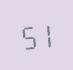five: (19, 21, 35, 50)
one: (36, 20, 52, 48)
